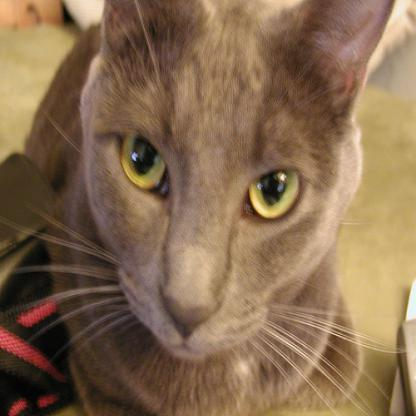cat: (26, 1, 398, 415)
